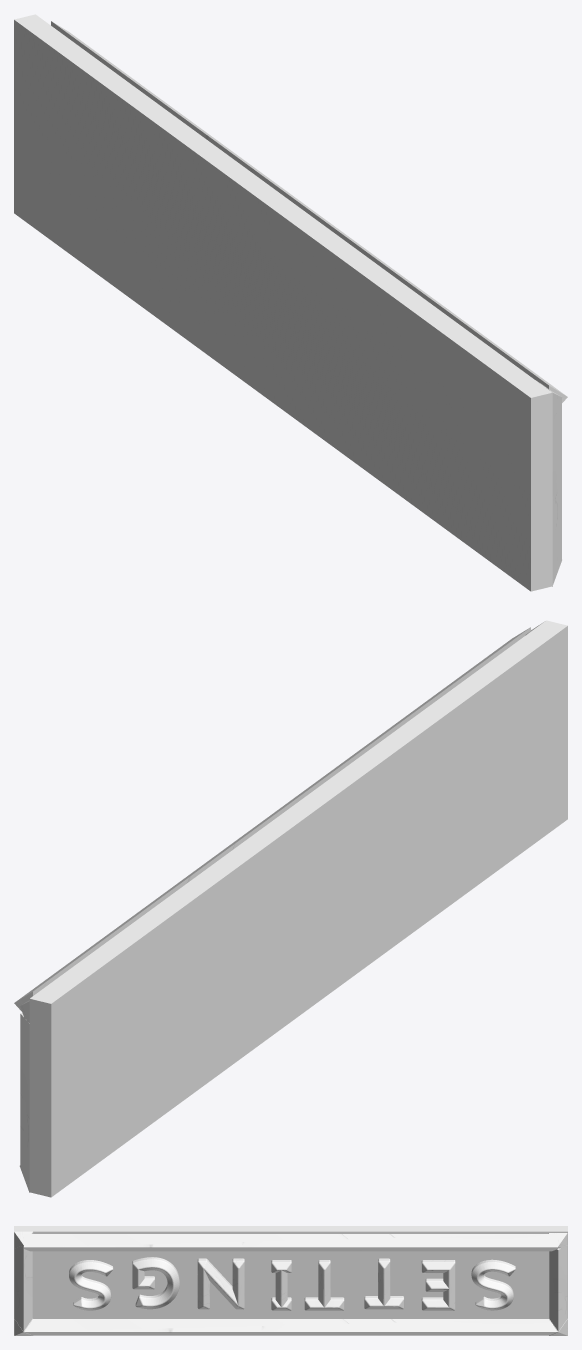
File: settings shiny finalized.obj
3 renders of one model, top to bottom at view 1: azimuth 30°, elevation 25°; view 2: azimuth 150°, elevation 25°; view 3: azimuth 270°, elevation 25°, orthographic. The views are drawn at different scales.
Visible parts, largest first — view 1: Object.6, Object.8, Object.13; view 2: Object.6, Object.8, Object.9; view 3: Object.6, Object.8, Object.7, Object.14, Object.2, Object.5, Object.15, Object.17, Object.13, Object.9, Object.3, Object.16 (+2 smaller).
Boxes of the visible parts, box(x1,y1,x2,y2) form: Object.6: box(14, 14, 552, 591); Object.8: box(51, 21, 567, 402); Object.13: box(552, 399, 561, 559); Object.6: box(29, 620, 567, 1197); Object.8: box(14, 627, 530, 1011); Object.9: box(20, 1013, 29, 1165); Object.6: box(14, 1226, 567, 1335); Object.8: box(24, 1234, 557, 1251); Object.7: box(24, 1319, 557, 1335); Object.14: box(197, 1258, 244, 1309); Object.2: box(132, 1257, 179, 1309); Object.5: box(421, 1260, 455, 1310); Object.15: box(471, 1259, 515, 1310); Object.17: box(69, 1260, 113, 1310); Object.13: box(14, 1245, 32, 1331); Object.9: box(549, 1245, 567, 1331); Object.3: box(364, 1258, 404, 1309); Object.16: box(304, 1260, 344, 1310).
Size of the model in its own units: 64.2 by 257 by 1237.
